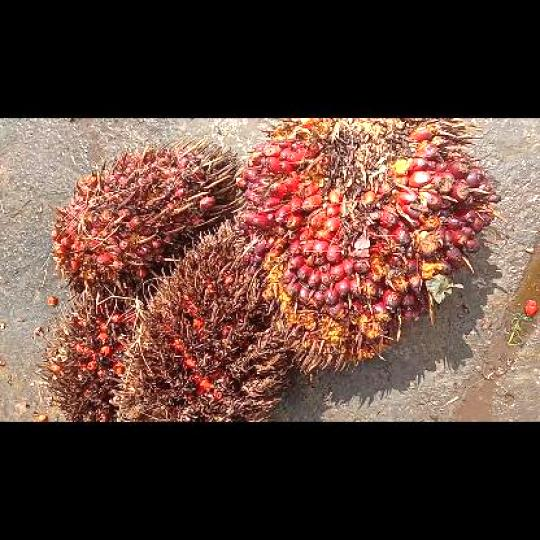masak: (231, 118, 499, 378), (51, 138, 240, 293)
terlalu masak: (110, 218, 292, 421), (37, 294, 140, 420)
